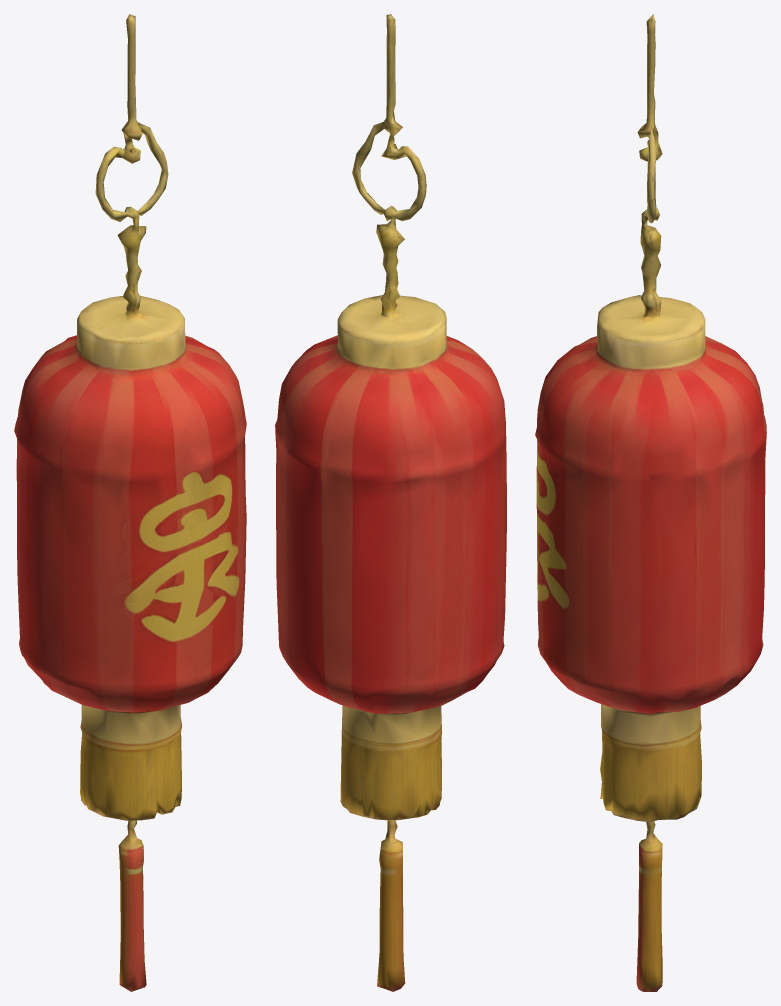
The model's file is lantern_china.glb.
The picture shows the model from 3 angles, left to right: view 1: azimuth 30°, elevation 25°; view 2: azimuth 150°, elevation 25°; view 3: azimuth 270°, elevation 25°; orthographic projection.
Bounding box in the file's own units: 0.4356 × 2 × 0.4319.
Materials: 1 (1 with a texture image).
